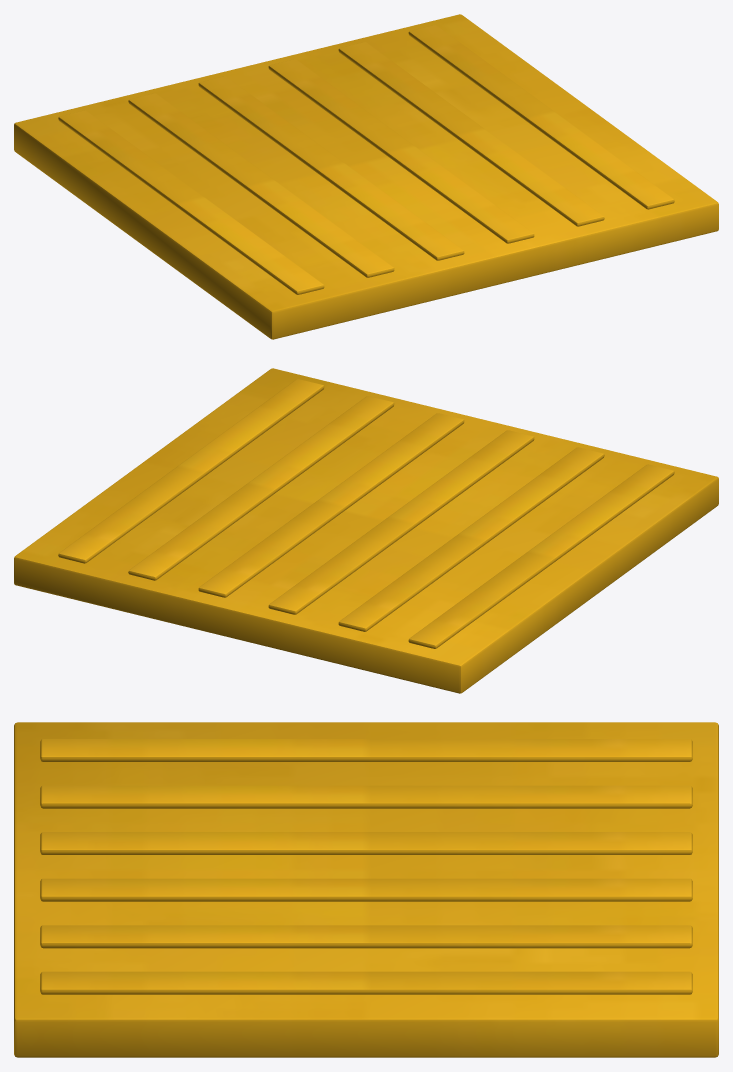
File: PIS-TAT-002_lod1.glb
3 views of the same model, one above another, from view 1: azimuth 30°, elevation 25°; view 2: azimuth 150°, elevation 25°; view 3: azimuth 270°, elevation 25° (orthographic). The views are drawn at different scales.
Parts seen in each view (by area): view 1: PIS-TAT-002_placa, PIS-TAT-002_barra1, PIS-TAT-002_barra4, PIS-TAT-002_barra3, PIS-TAT-002_barra0, PIS-TAT-002_barra2, PIS-TAT-002_barra5; view 2: PIS-TAT-002_placa, PIS-TAT-002_barra1, PIS-TAT-002_barra4, PIS-TAT-002_barra3, PIS-TAT-002_barra0, PIS-TAT-002_barra2, PIS-TAT-002_barra5; view 3: PIS-TAT-002_placa, PIS-TAT-002_barra1, PIS-TAT-002_barra3, PIS-TAT-002_barra4, PIS-TAT-002_barra5, PIS-TAT-002_barra0, PIS-TAT-002_barra2.
Part boxes in pixels (<box>): PIS-TAT-002_placa: <box>14,14,718,339</box>; PIS-TAT-002_barra1: <box>128,93,394,277</box>; PIS-TAT-002_barra4: <box>338,42,604,226</box>; PIS-TAT-002_barra3: <box>268,59,534,243</box>; PIS-TAT-002_barra0: <box>58,110,324,294</box>; PIS-TAT-002_barra2: <box>198,76,464,260</box>; PIS-TAT-002_barra5: <box>408,25,674,209</box>; PIS-TAT-002_placa: <box>14,368,718,693</box>; PIS-TAT-002_barra1: <box>338,447,604,631</box>; PIS-TAT-002_barra4: <box>128,396,394,580</box>; PIS-TAT-002_barra3: <box>198,413,464,597</box>; PIS-TAT-002_barra0: <box>408,464,674,648</box>; PIS-TAT-002_barra2: <box>268,430,534,614</box>; PIS-TAT-002_barra5: <box>58,379,324,563</box>; PIS-TAT-002_placa: <box>14,722,718,1057</box>; PIS-TAT-002_barra1: <box>40,785,692,808</box>; PIS-TAT-002_barra3: <box>40,878,692,901</box>; PIS-TAT-002_barra4: <box>40,925,692,948</box>; PIS-TAT-002_barra5: <box>40,971,692,994</box>; PIS-TAT-002_barra0: <box>40,739,692,761</box>; PIS-TAT-002_barra2: <box>40,832,692,854</box>.
Bounding box in the file's own units: 0.4 × 0.029 × 0.4.
1 material, 1 textured.
